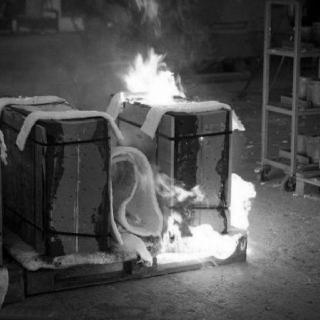Fire: (108, 0, 268, 268)
